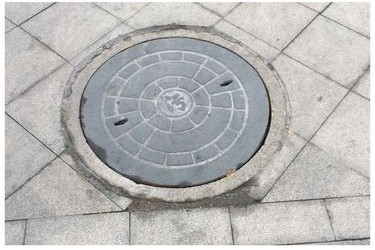good: (56, 16, 300, 212)
